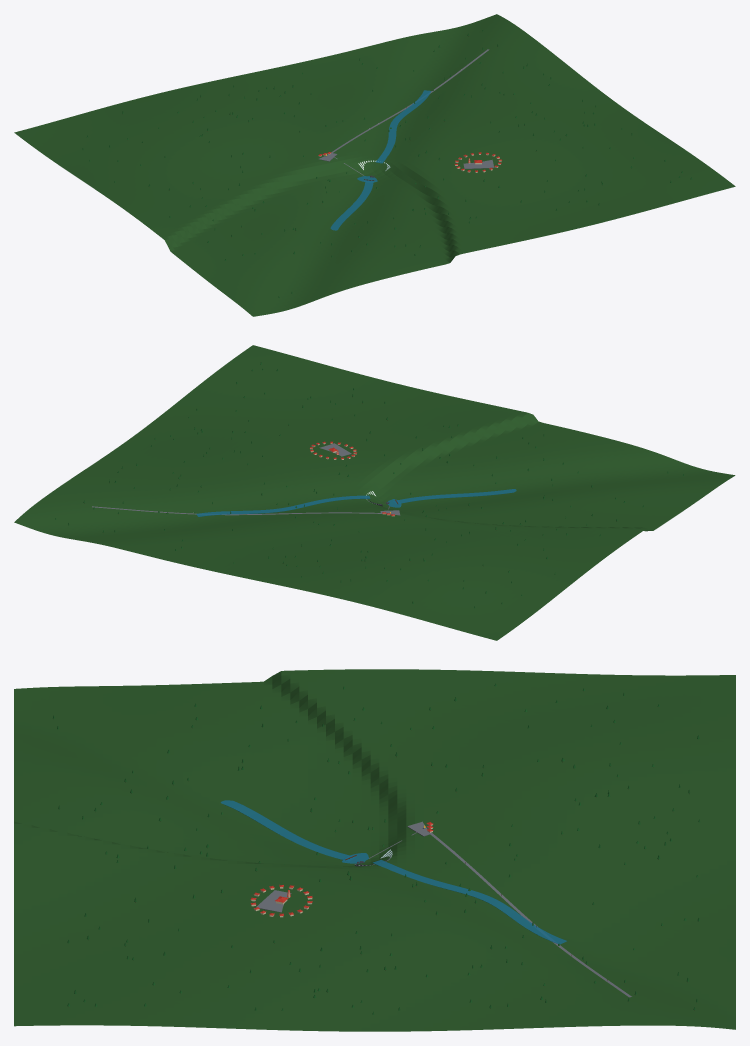
File: ring3_auto_b01_duc_trong_pongour_7tier_waterfall_and_dai_ninh.glb
3 renders of one model, top to bottom at view 1: azimuth 30°, elevation 25°; view 2: azimuth 150°, elevation 25°; view 3: azimuth 270°, elevation 25°, orthographic. The views are drawn at different scales.
Visible parts, largest first — view 1: Pongour_Primeval_Forest_Canyon_Terrain, DaNhim_River_And_Pongour_Plunge_Pool, Pongour_Primeval_Forest_Canopies, Pongour_Access_Highway_Stone_Stairs_And_Bridge; view 2: Pongour_Primeval_Forest_Canyon_Terrain, DaNhim_River_And_Pongour_Plunge_Pool, Pongour_Primeval_Forest_Canopies, Pongour_Access_Highway_Stone_Stairs_And_Bridge; view 3: Pongour_Primeval_Forest_Canyon_Terrain, DaNhim_River_And_Pongour_Plunge_Pool, Pongour_Primeval_Forest_Canopies, Pongour_Access_Highway_Stone_Stairs_And_Bridge.
Part boxes in pixels (left/top/right/bottom): Pongour_Primeval_Forest_Canyon_Terrain: left=14, top=14, right=735, bottom=316; DaNhim_River_And_Pongour_Plunge_Pool: left=330, top=90, right=431, bottom=230; Pongour_Primeval_Forest_Canopies: left=82, top=30, right=692, bottom=297; Pongour_Access_Highway_Stone_Stairs_And_Bridge: left=318, top=49, right=494, bottom=175; Pongour_Primeval_Forest_Canyon_Terrain: left=14, top=345, right=735, bottom=640; DaNhim_River_And_Pongour_Plunge_Pool: left=196, top=489, right=516, bottom=516; Pongour_Primeval_Forest_Canopies: left=55, top=362, right=683, bottom=608; Pongour_Access_Highway_Stone_Stairs_And_Bridge: left=92, top=443, right=400, bottom=515; Pongour_Primeval_Forest_Canyon_Terrain: left=14, top=669, right=735, bottom=1031; DaNhim_River_And_Pongour_Plunge_Pool: left=220, top=800, right=567, bottom=944; Pongour_Primeval_Forest_Canopies: left=53, top=683, right=699, bottom=1014; Pongour_Access_Highway_Stone_Stairs_And_Bridge: left=256, top=821, right=631, bottom=997.
Size of the model in its own units: 2800 by 115 by 2400.
